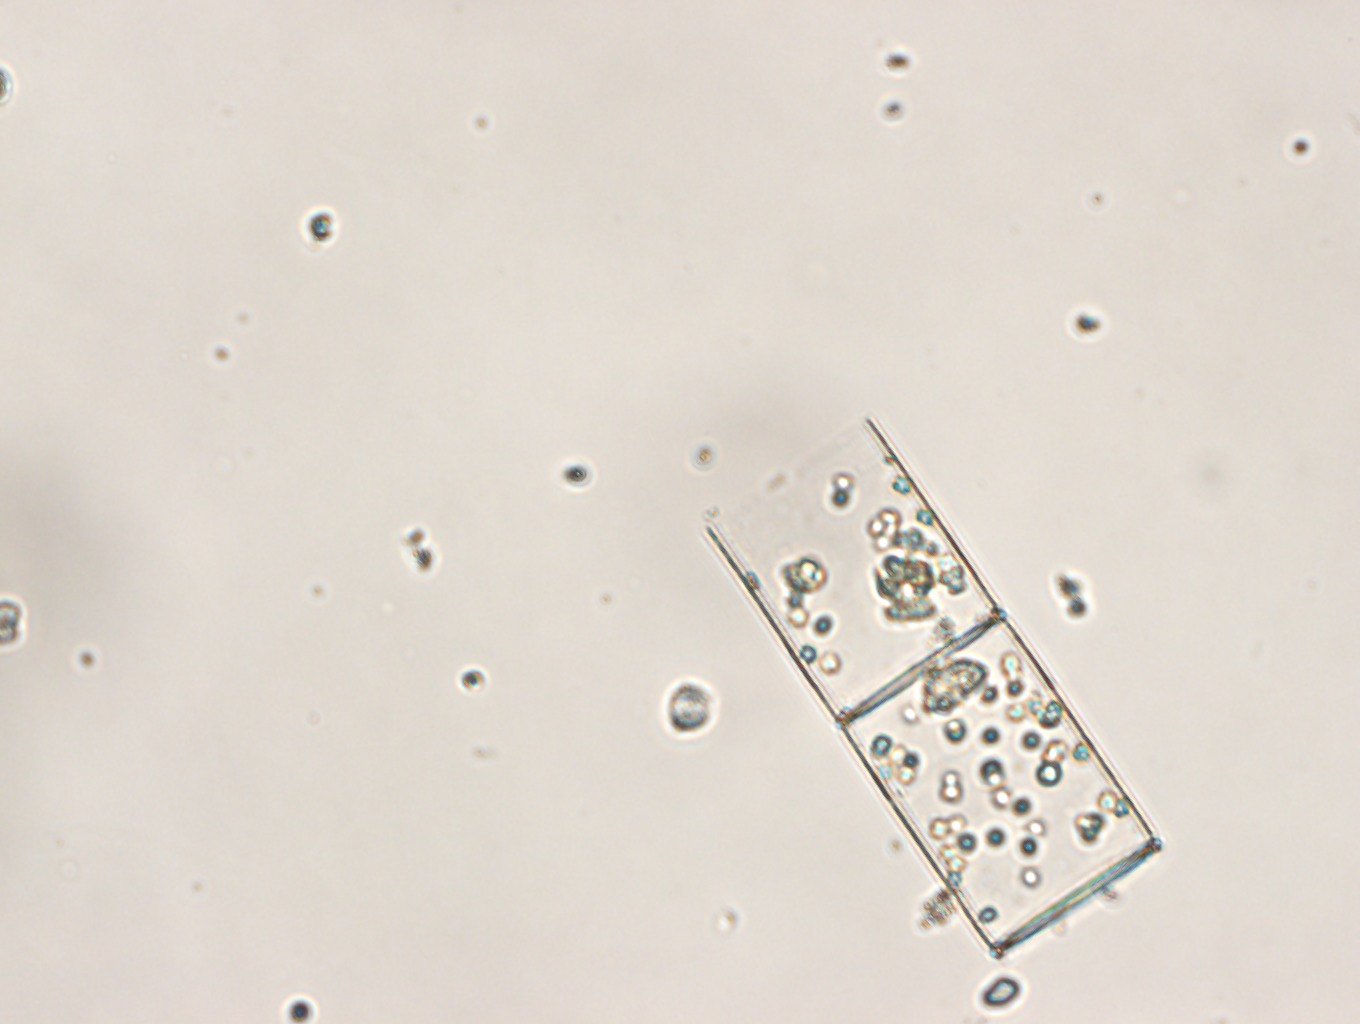guinardia flaccida: (704, 414, 1164, 956)
